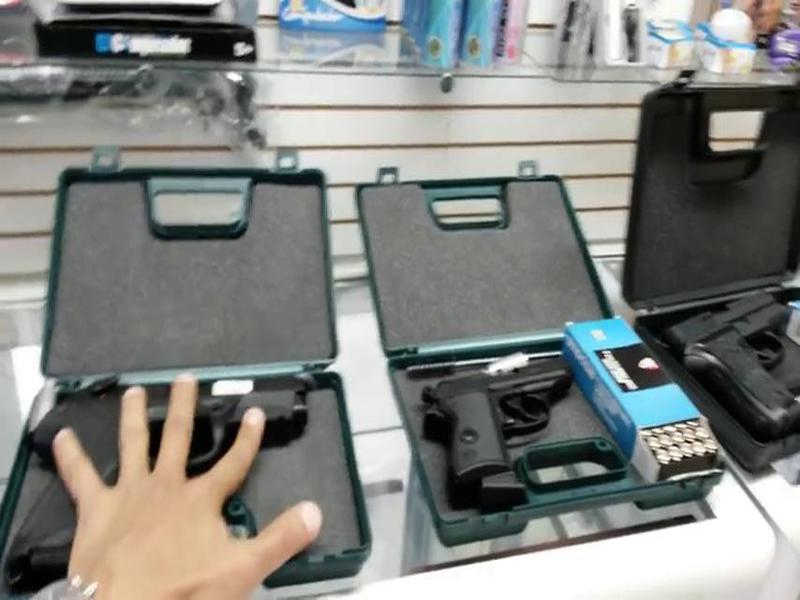Pistola: (430, 361, 579, 508)
